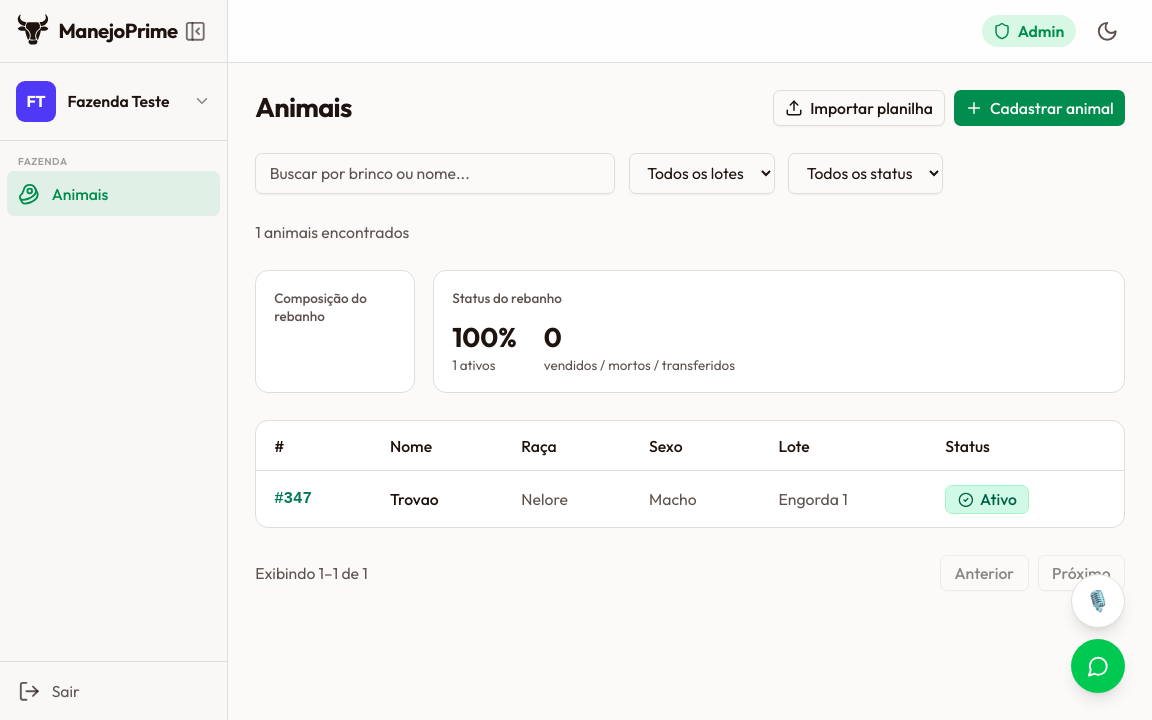
it: create animal › opens dialog and submits new animal, then refreshes list
Expected: the table is shown, [256, 422, 1124, 528]
Click the button "Cadastrar animal".
click(1040, 108)  # box [954, 90, 1125, 126]
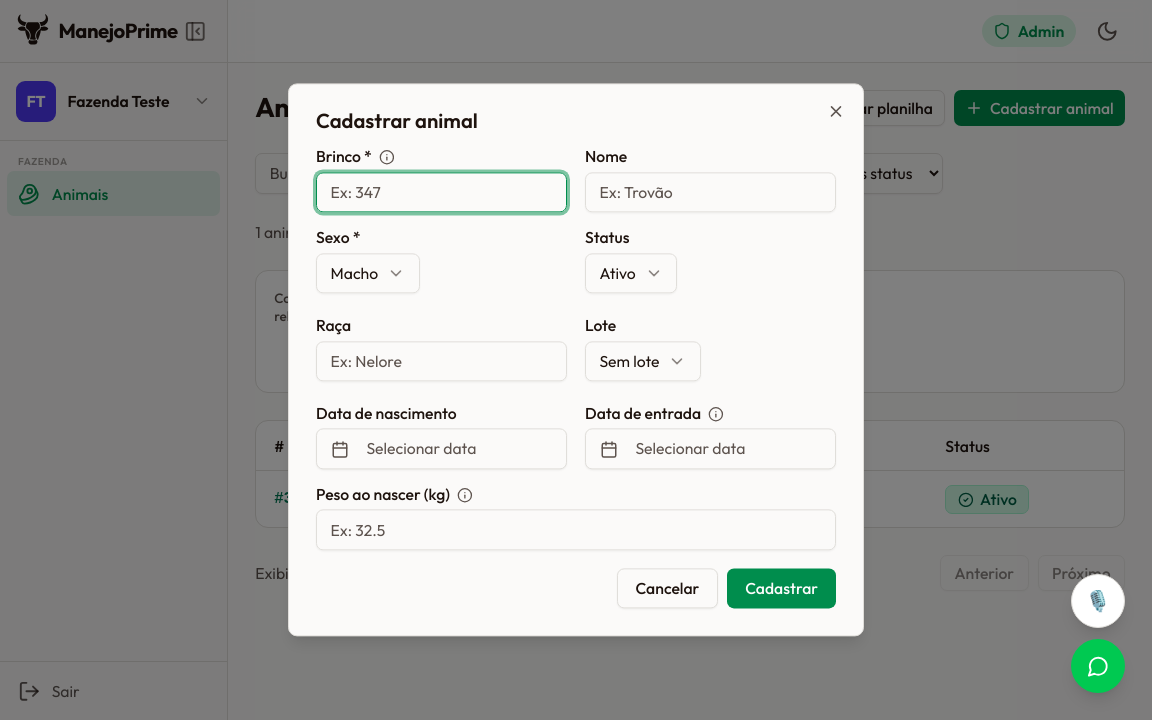
Now the dialog is shown, box [288, 83, 864, 637]
Type "999" into the field labelled "Brinco *".
click(442, 192); type("999")  # box [316, 172, 567, 213]
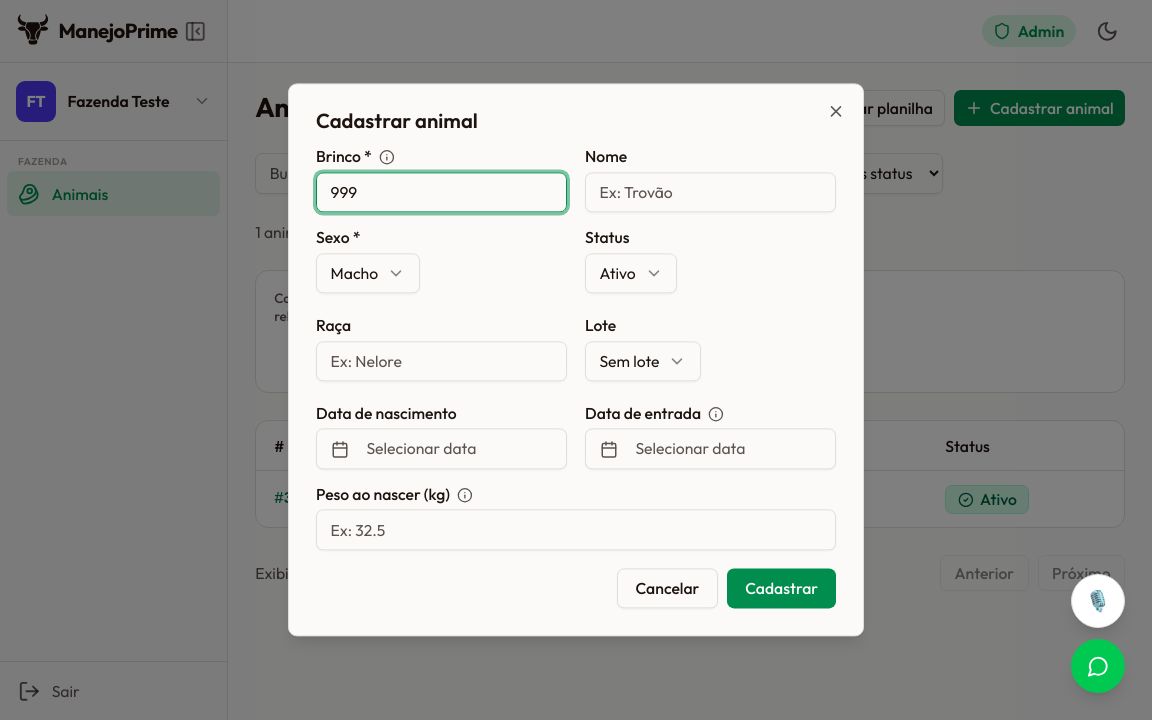
Type "Novo" into the field labelled "Nome".
click(710, 192); type("Novo")  # box [585, 172, 836, 213]
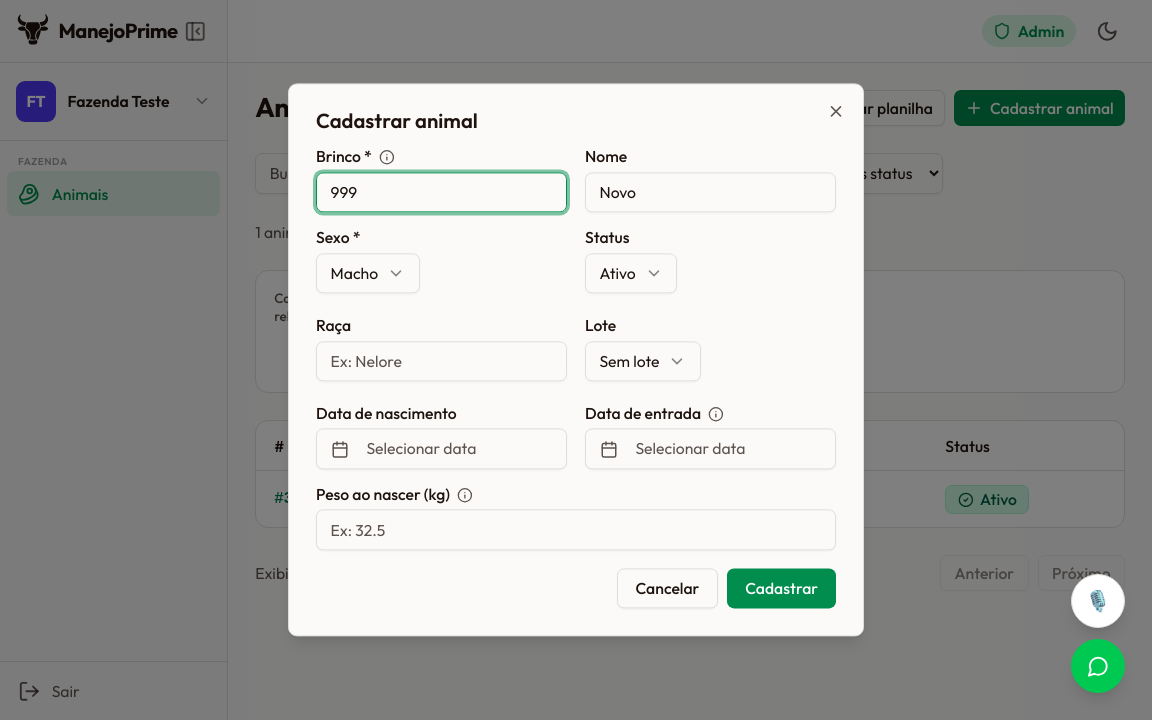
Click the button "Cadastrar".
click(782, 588)  # box [727, 568, 836, 609]
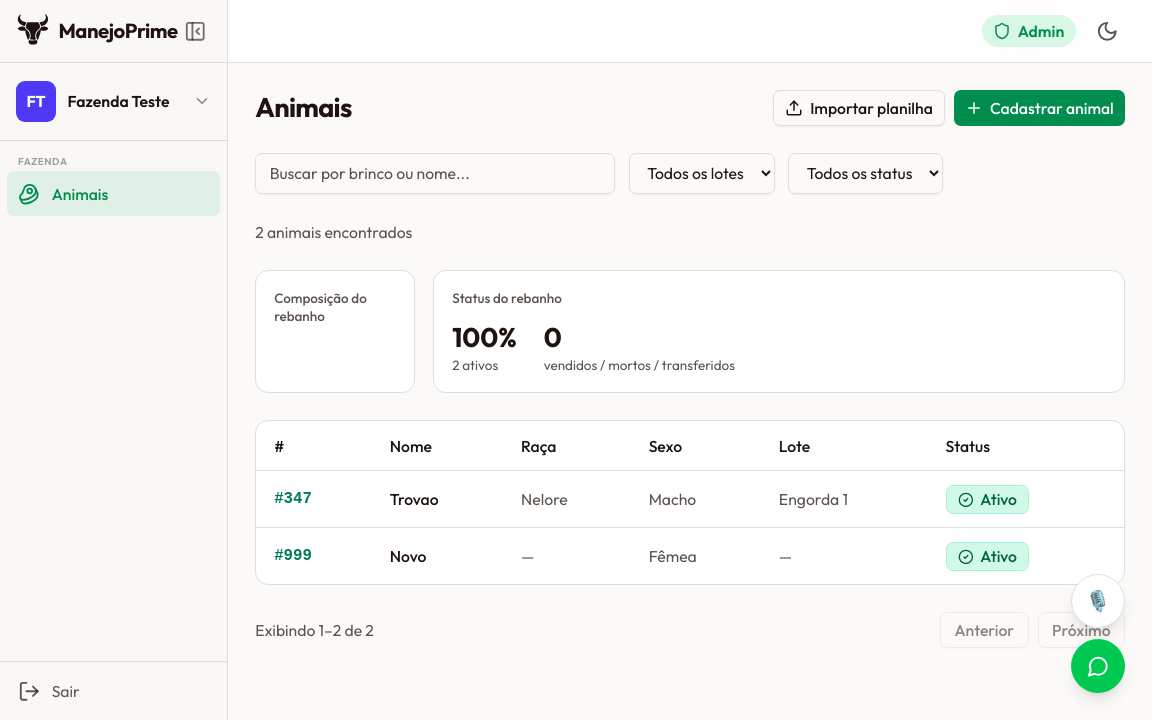
Now the dialog is gone
